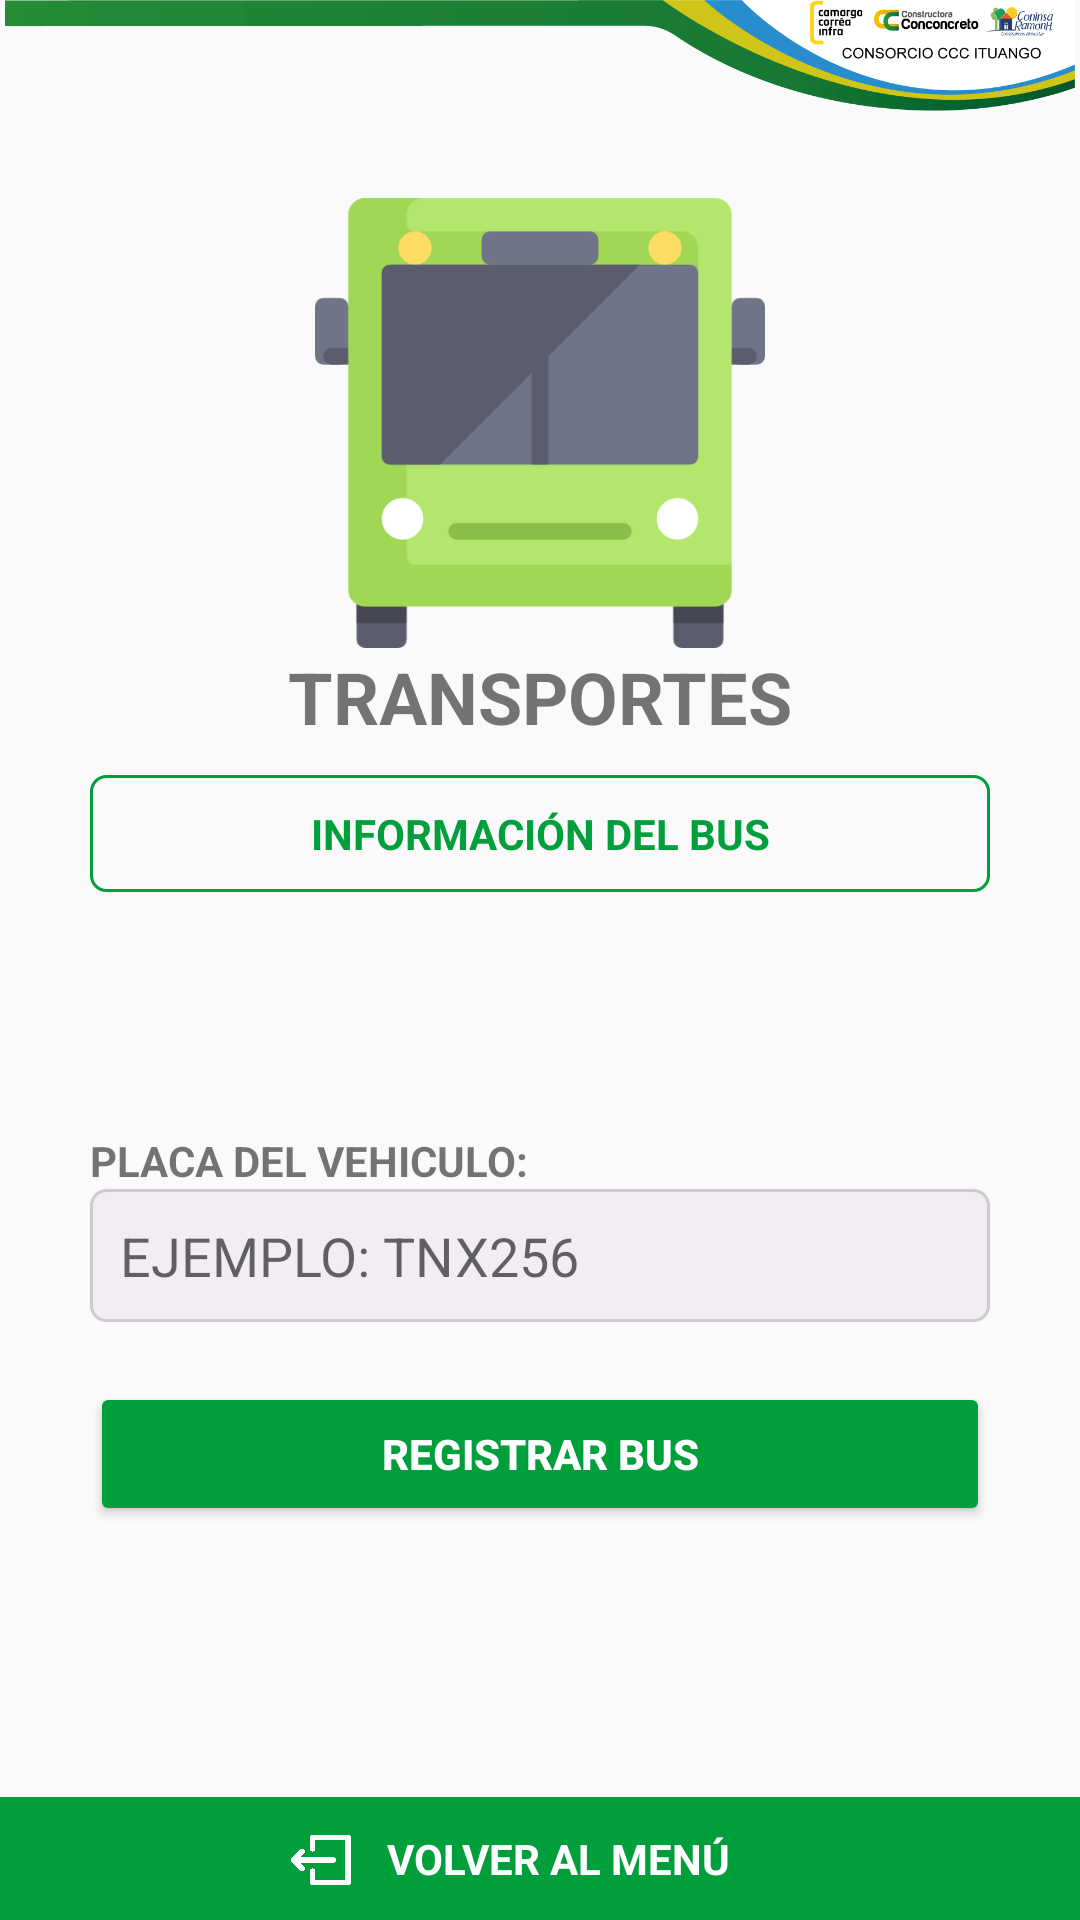

Point at icon controls on the screen. Image size 1080px×1920px, points as (x=x, y=y).
salir: (x=321, y=1860)
